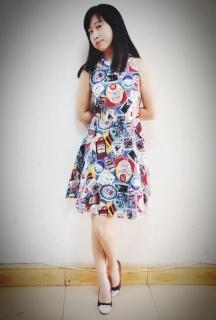vest: (65, 53, 151, 220)
